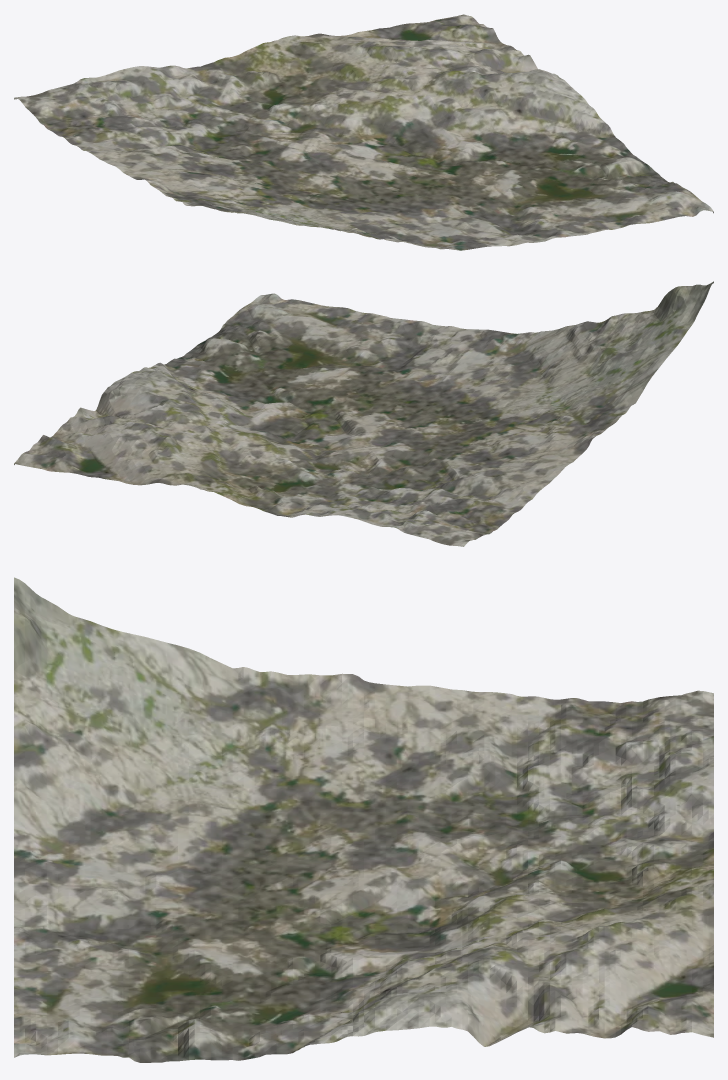
3 views of the same model, one above another, from view 1: azimuth 30°, elevation 25°; view 2: azimuth 150°, elevation 25°; view 3: azimuth 270°, elevation 25° (orthographic). The views are drawn at different scales.
Bounding box in the file's own units: 250 × 68.63 × 241.
1 material, 1 textured.
